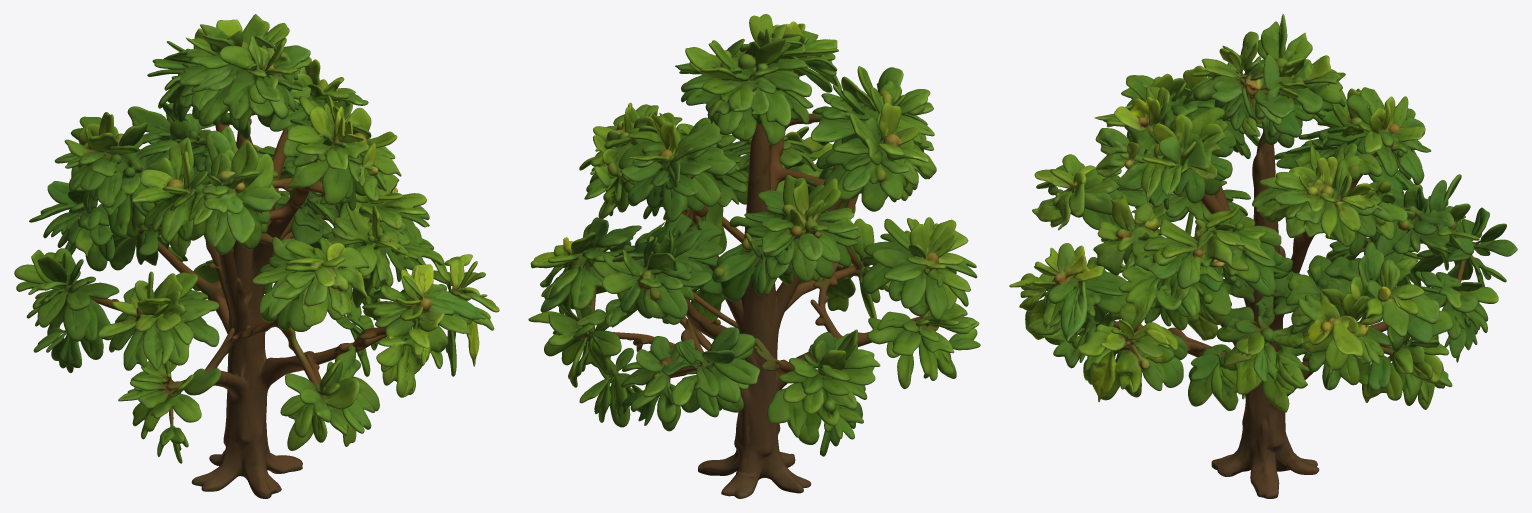
Rendered from magnolia.glb.
3 renders of one model, left to right at view 1: azimuth 30°, elevation 25°; view 2: azimuth 150°, elevation 25°; view 3: azimuth 270°, elevation 25°, orthographic. The views are drawn at different scales.
Parts seen in each view (by area): view 1: tripo_node_f8f5105f-e027-4ab9-be0a-dc809e821565; view 2: tripo_node_f8f5105f-e027-4ab9-be0a-dc809e821565; view 3: tripo_node_f8f5105f-e027-4ab9-be0a-dc809e821565.
Boxes of the visible parts, <box> form: tripo_node_f8f5105f-e027-4ab9-be0a-dc809e821565: <box>14,14,499,498</box>; tripo_node_f8f5105f-e027-4ab9-be0a-dc809e821565: <box>528,14,980,498</box>; tripo_node_f8f5105f-e027-4ab9-be0a-dc809e821565: <box>1009,14,1517,498</box>.
Bounding box in the file's own units: 0.7719 × 0.9377 × 0.9791.
Materials: 1 (1 with a texture image).
